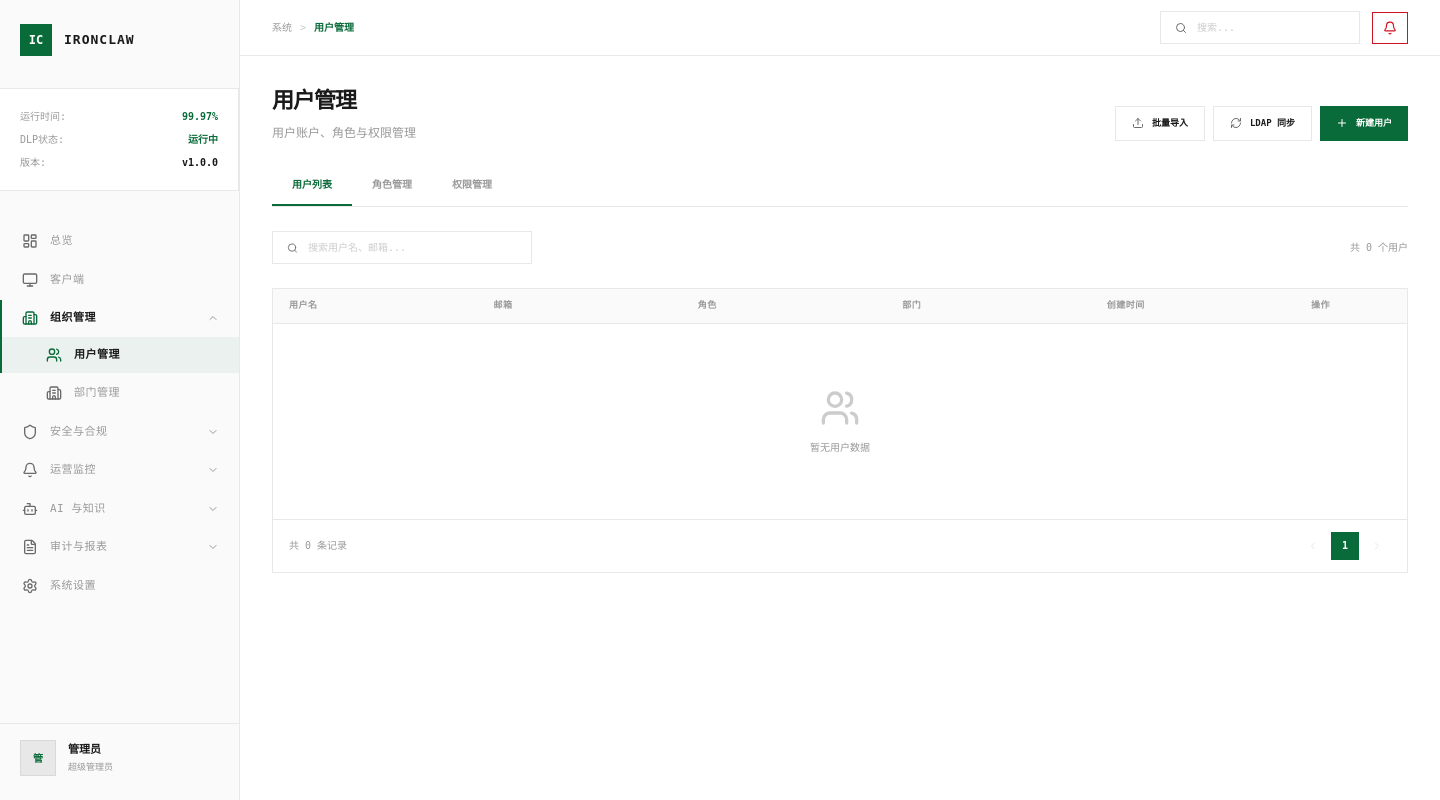
用户管理 › 新建用户弹窗 › 点击取消应关闭弹窗
Click the button "新建用户" at (1364, 124), box 1320,106 -> 1408,142
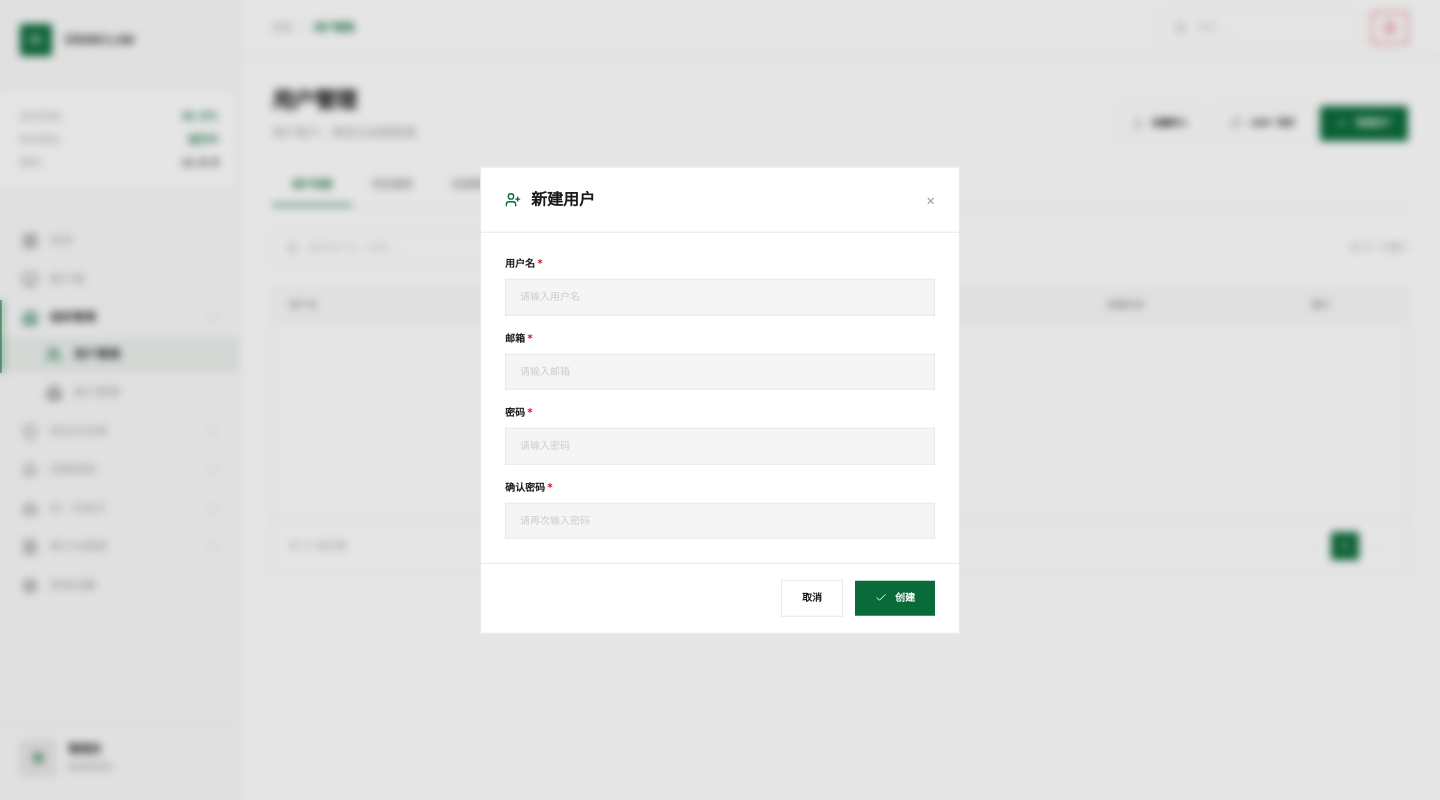
Result: the field with placeholder "请输入用户名" is shown at 505,279 -> 935,315
Click the button "取消" at (812, 598), box 781,580 -> 843,616
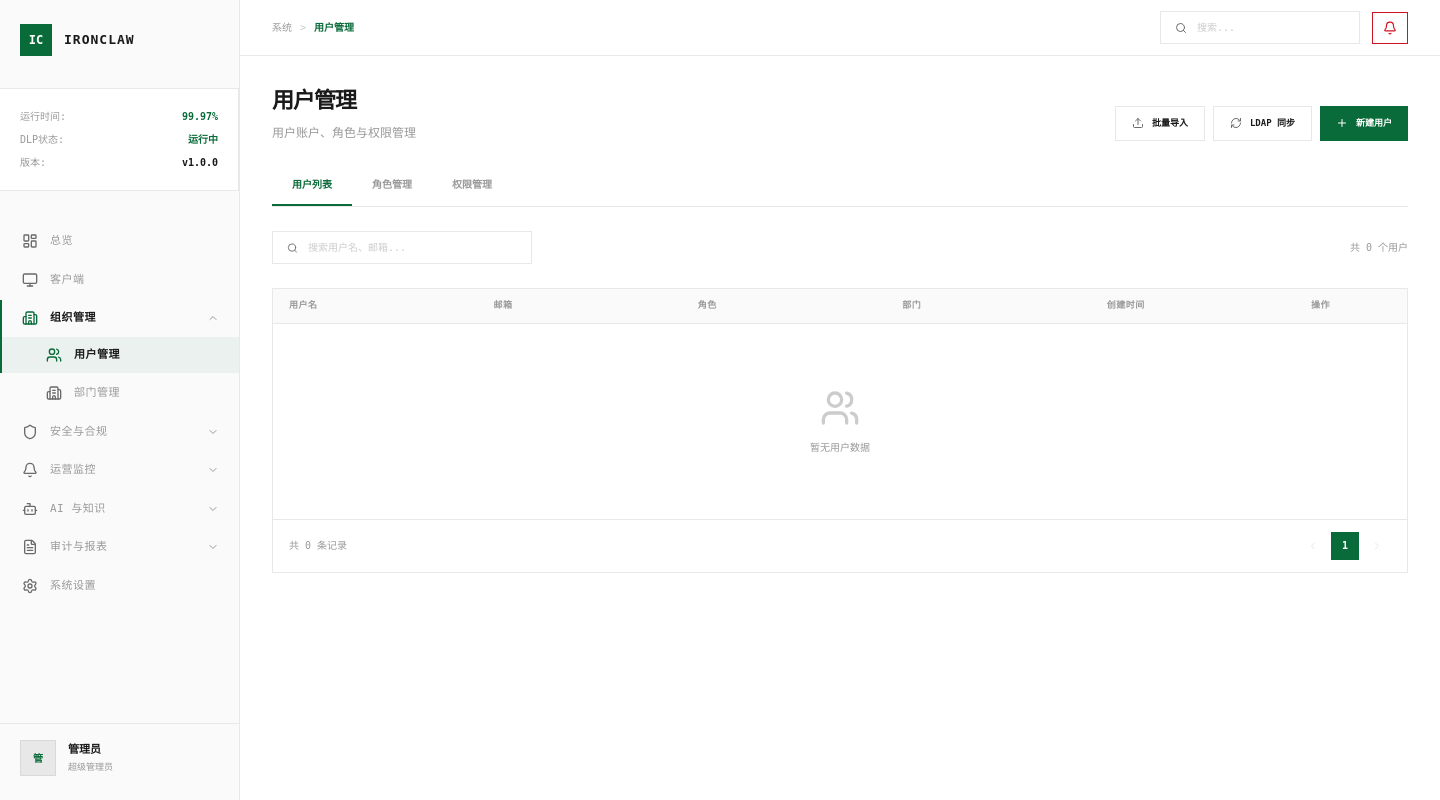
Result: the field with placeholder "请输入用户名" is gone
